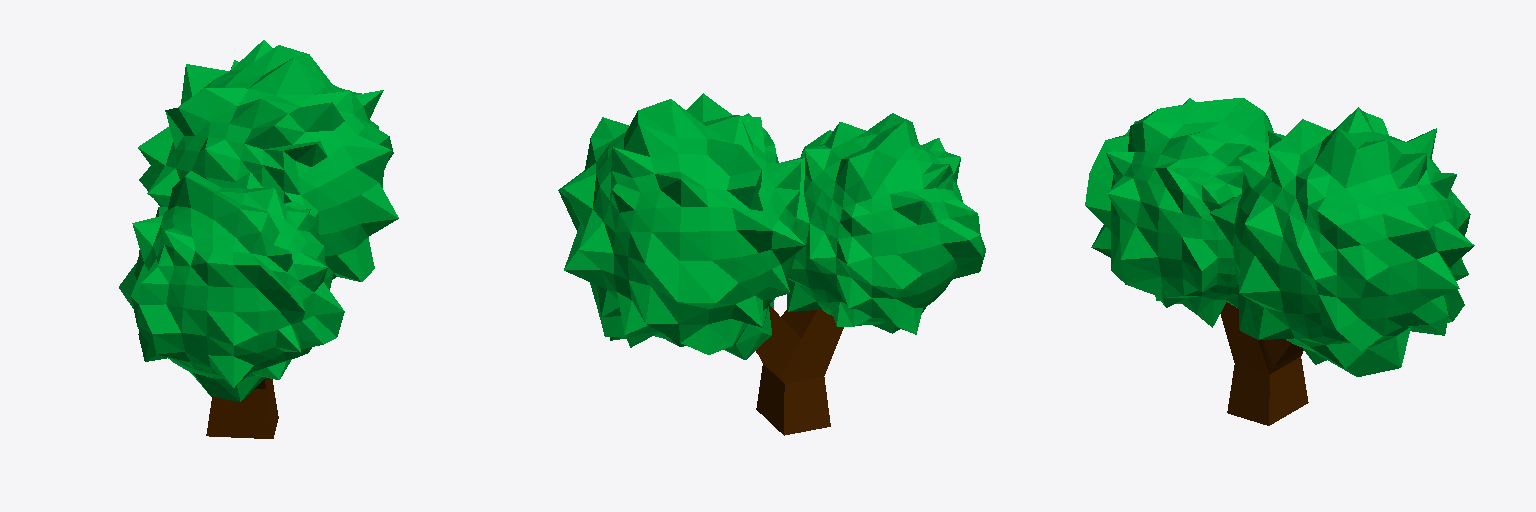
File: arbol.obj
The picture shows the model from 3 angles: view 1: azimuth 30°, elevation 25°; view 2: azimuth 150°, elevation 25°; view 3: azimuth 270°, elevation 25°; orthographic projection.
Parts seen in each view (by area): view 1: Tree; view 2: Tree; view 3: Tree.
Boxes of the visible parts, box(x1,y1,x2,y2) form: Tree: box(119, 40, 398, 438); Tree: box(558, 93, 985, 435); Tree: box(1085, 98, 1474, 425).
Size of the model in its own units: 7.28 by 6.76 by 7.38.